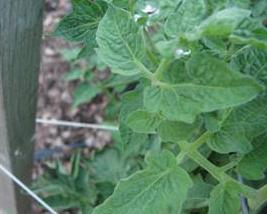Tomato leaf mosaic virus: (61, 147, 201, 214), (141, 51, 267, 125), (95, 5, 151, 83), (162, 0, 214, 39), (205, 124, 255, 158), (206, 175, 249, 214), (128, 111, 164, 134)
